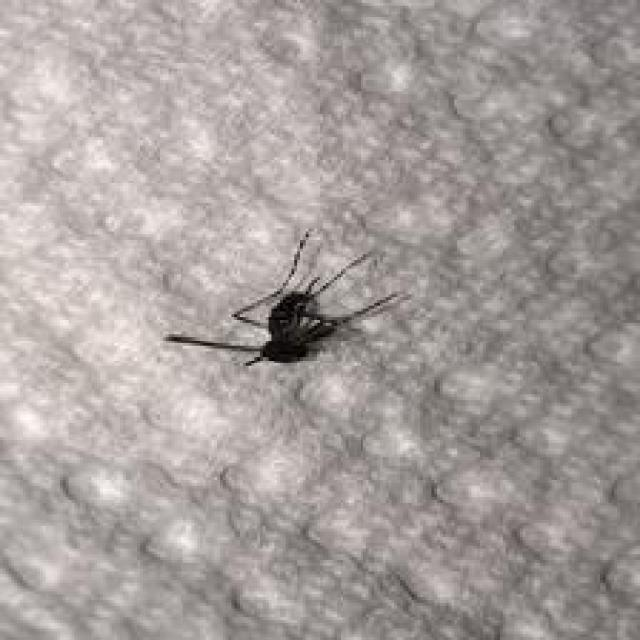Aedes albopictus: (163, 227, 411, 370)
